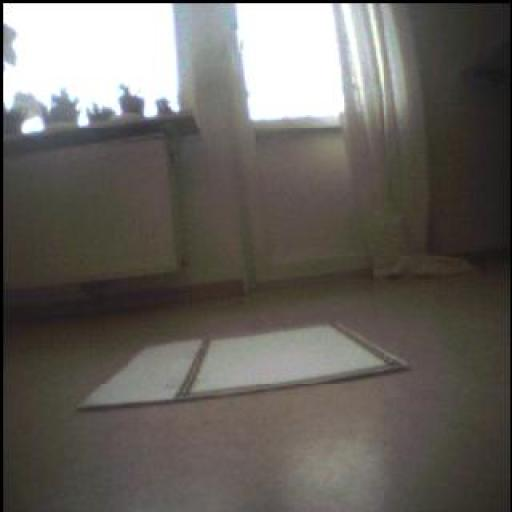Pad: (83, 318, 411, 409)
